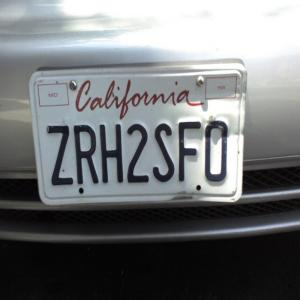Vehicle-registration-plate: (31, 64, 249, 207)
